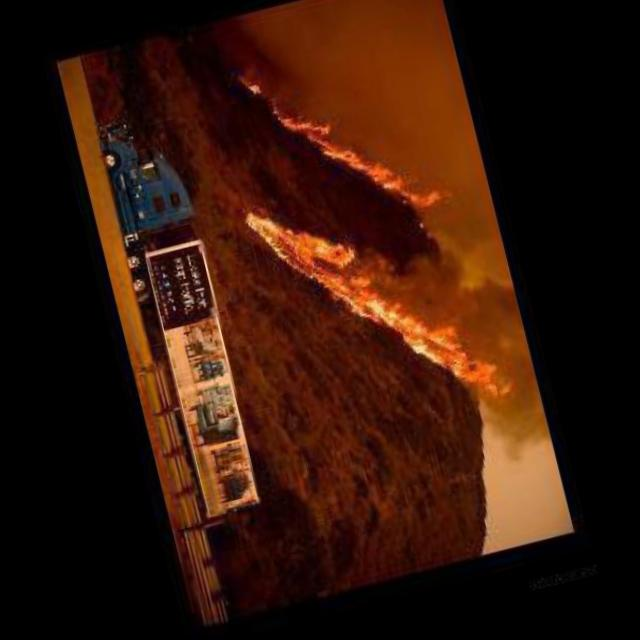Fire: (226, 80, 514, 453)
